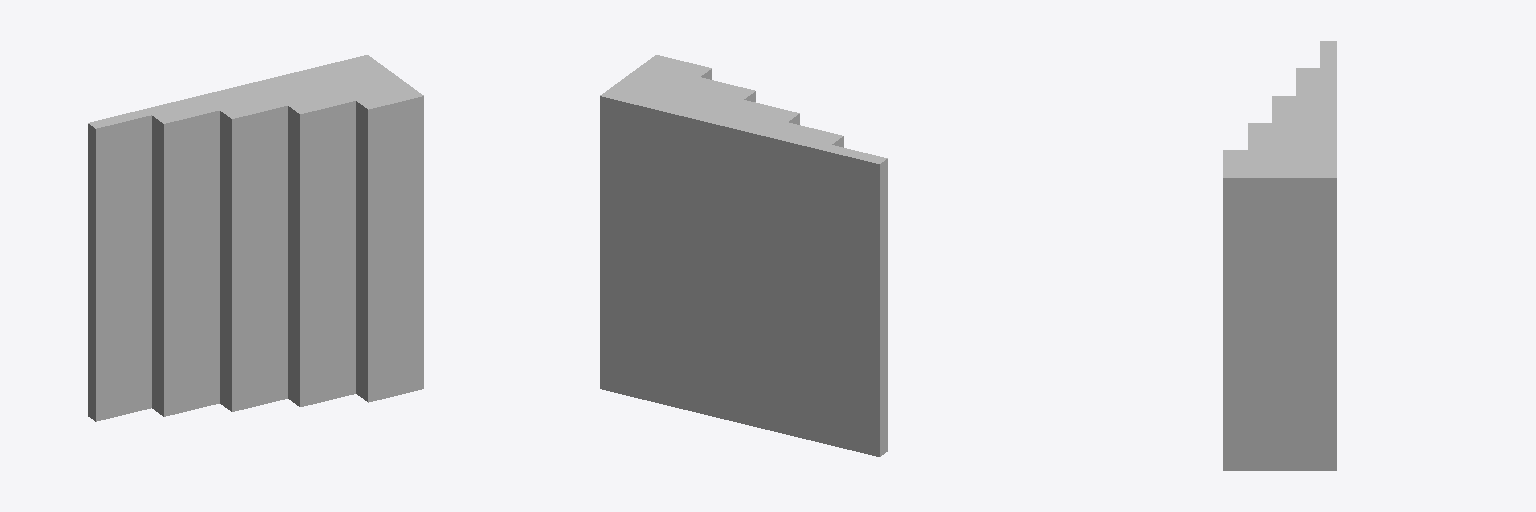
The model's file is blue_stairs.obj.
The picture shows the model from 3 angles: view 1: azimuth 30°, elevation 25°; view 2: azimuth 150°, elevation 25°; view 3: azimuth 270°, elevation 25°; orthographic projection.
Visible parts, largest first — view 1: Cube; view 2: Cube; view 3: Cube.
Boxes of the visible parts, <box> form: Cube: <box>88,55,423,421</box>; Cube: <box>600,55,887,456</box>; Cube: <box>1223,41,1336,470</box>.
Size of the model in its own units: 2 by 2 by 0.7.